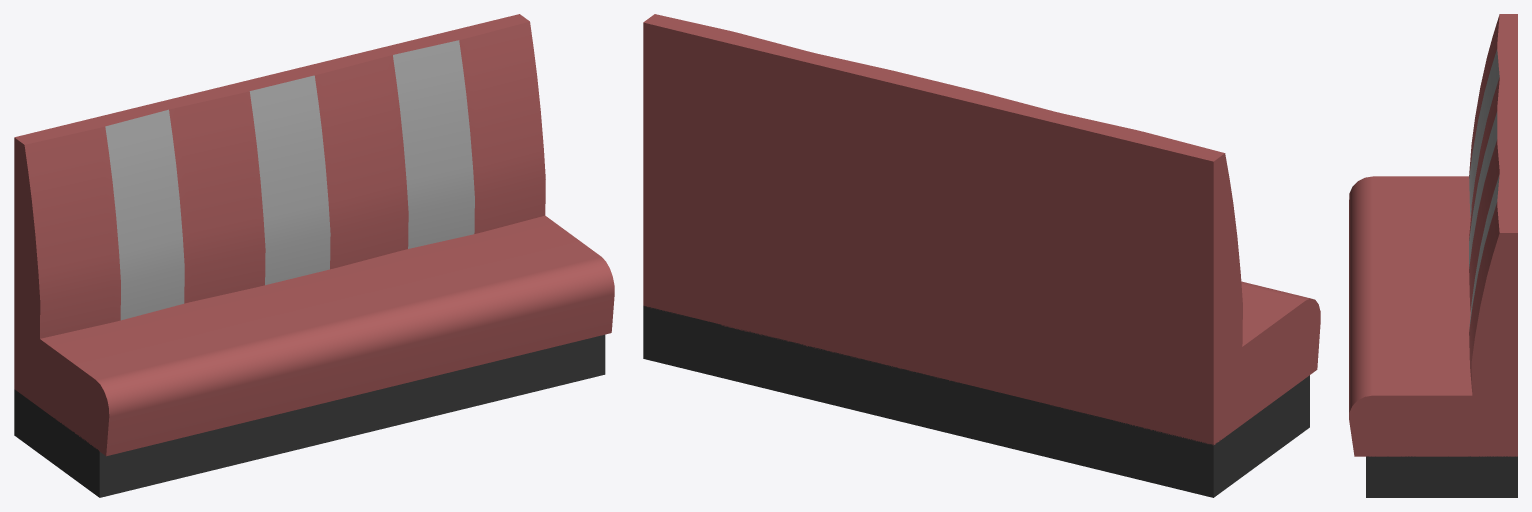
File: Diner_Bench.fbx
3 views of the same model, side by side, from view 1: azimuth 30°, elevation 25°; view 2: azimuth 150°, elevation 25°; view 3: azimuth 270°, elevation 25° (orthographic). The views are drawn at different scales.
Visible parts, largest first — view 1: pCube285; view 2: pCube285; view 3: pCube285.
Boxes of the visible parts, x1,y1,x2,y2 form: pCube285: (14,14,614,497); pCube285: (643,14,1320,497); pCube285: (1349,14,1517,497).
Bounding box in the file's own units: 10.84 × 6.11 × 3.53.
